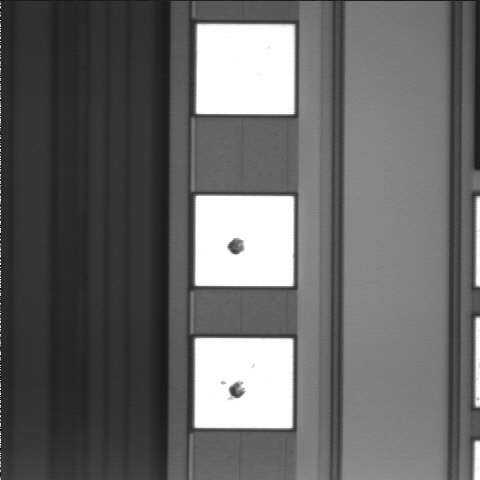pad: (196, 24, 295, 114), (195, 196, 294, 286), (195, 338, 293, 428)
